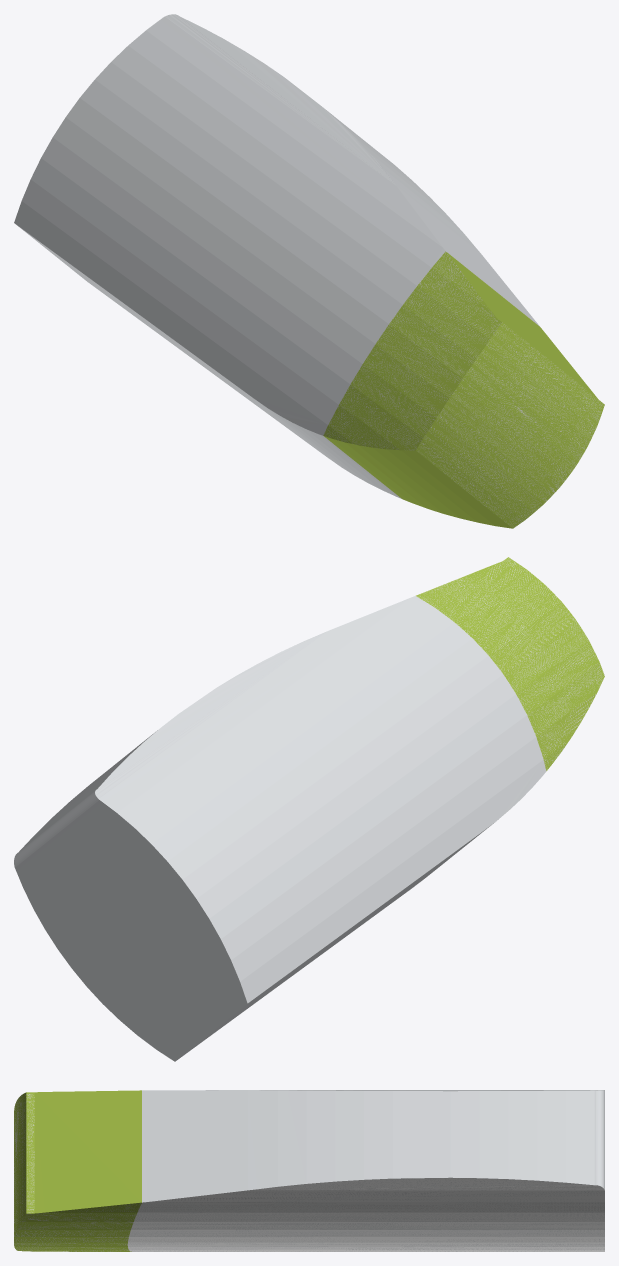
3 views of the same model, one above another, from view 1: azimuth 30°, elevation 25°; view 2: azimuth 150°, elevation 25°; view 3: azimuth 270°, elevation 25° (orthographic). The views are drawn at different scales.
Visible parts, largest first — view 1: advance techniques anti dandruff shampoo amp conditioner; view 2: advance techniques anti dandruff shampoo amp conditioner; view 3: advance techniques anti dandruff shampoo amp conditioner.
Boxes of the visible parts, box(x1,y1,x2,y2) form: advance techniques anti dandruff shampoo amp conditioner: box(14, 14, 604, 528); advance techniques anti dandruff shampoo amp conditioner: box(14, 557, 604, 1061); advance techniques anti dandruff shampoo amp conditioner: box(14, 1090, 604, 1251).
Bounding box in the file's own units: 2.35 × 2.34 × 6.41.
